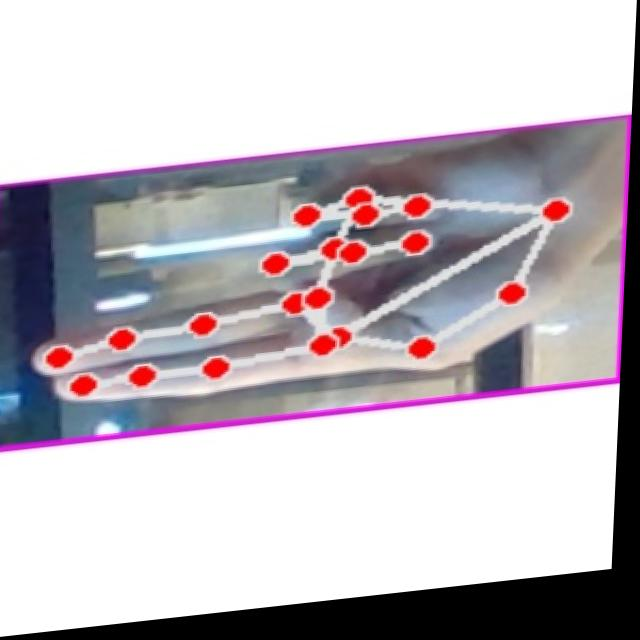H: (23, 149, 597, 420)
